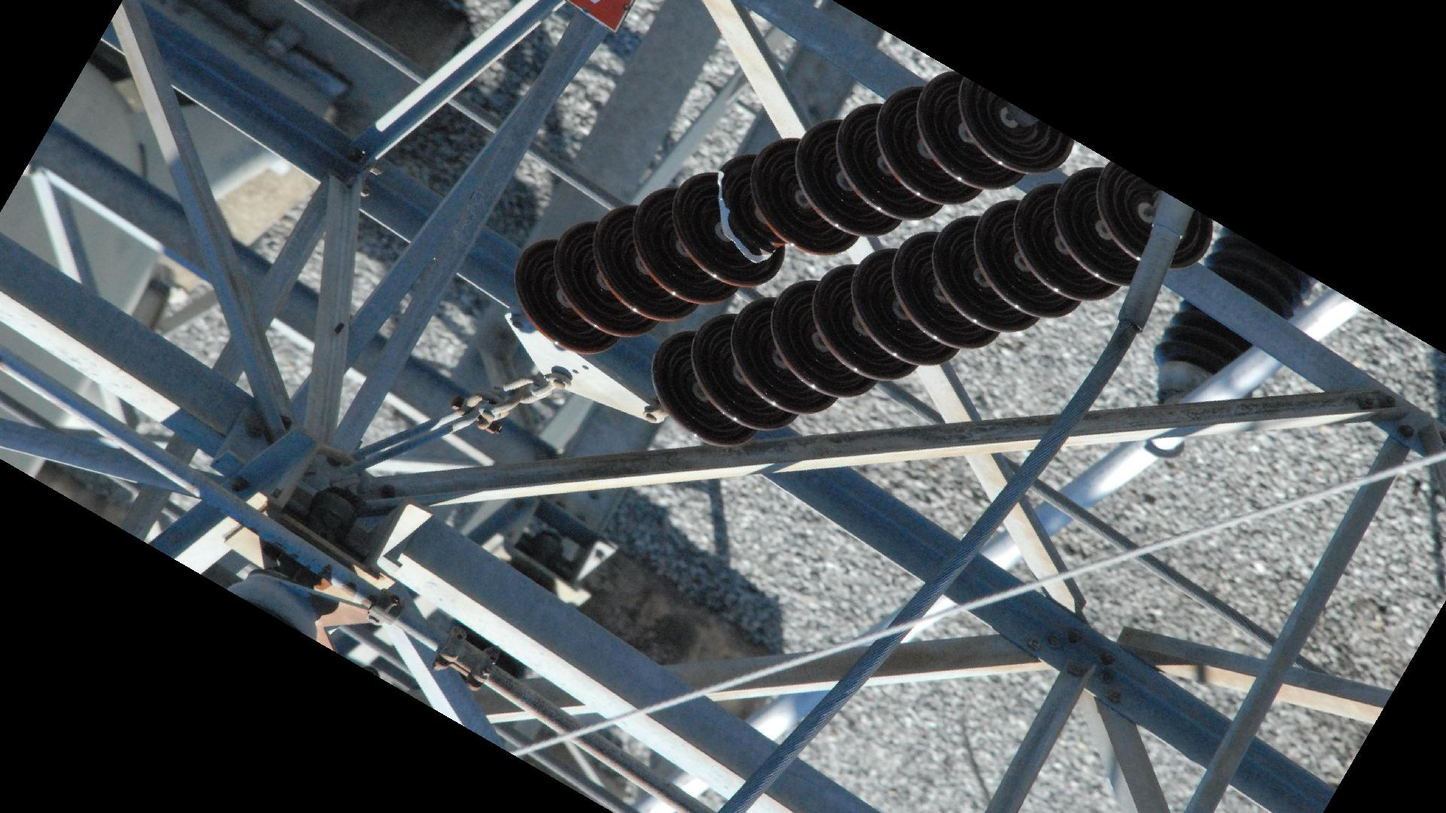insulator: (648, 153, 1220, 453), (508, 62, 1080, 361)
insulator_breakage: (709, 167, 781, 269)
